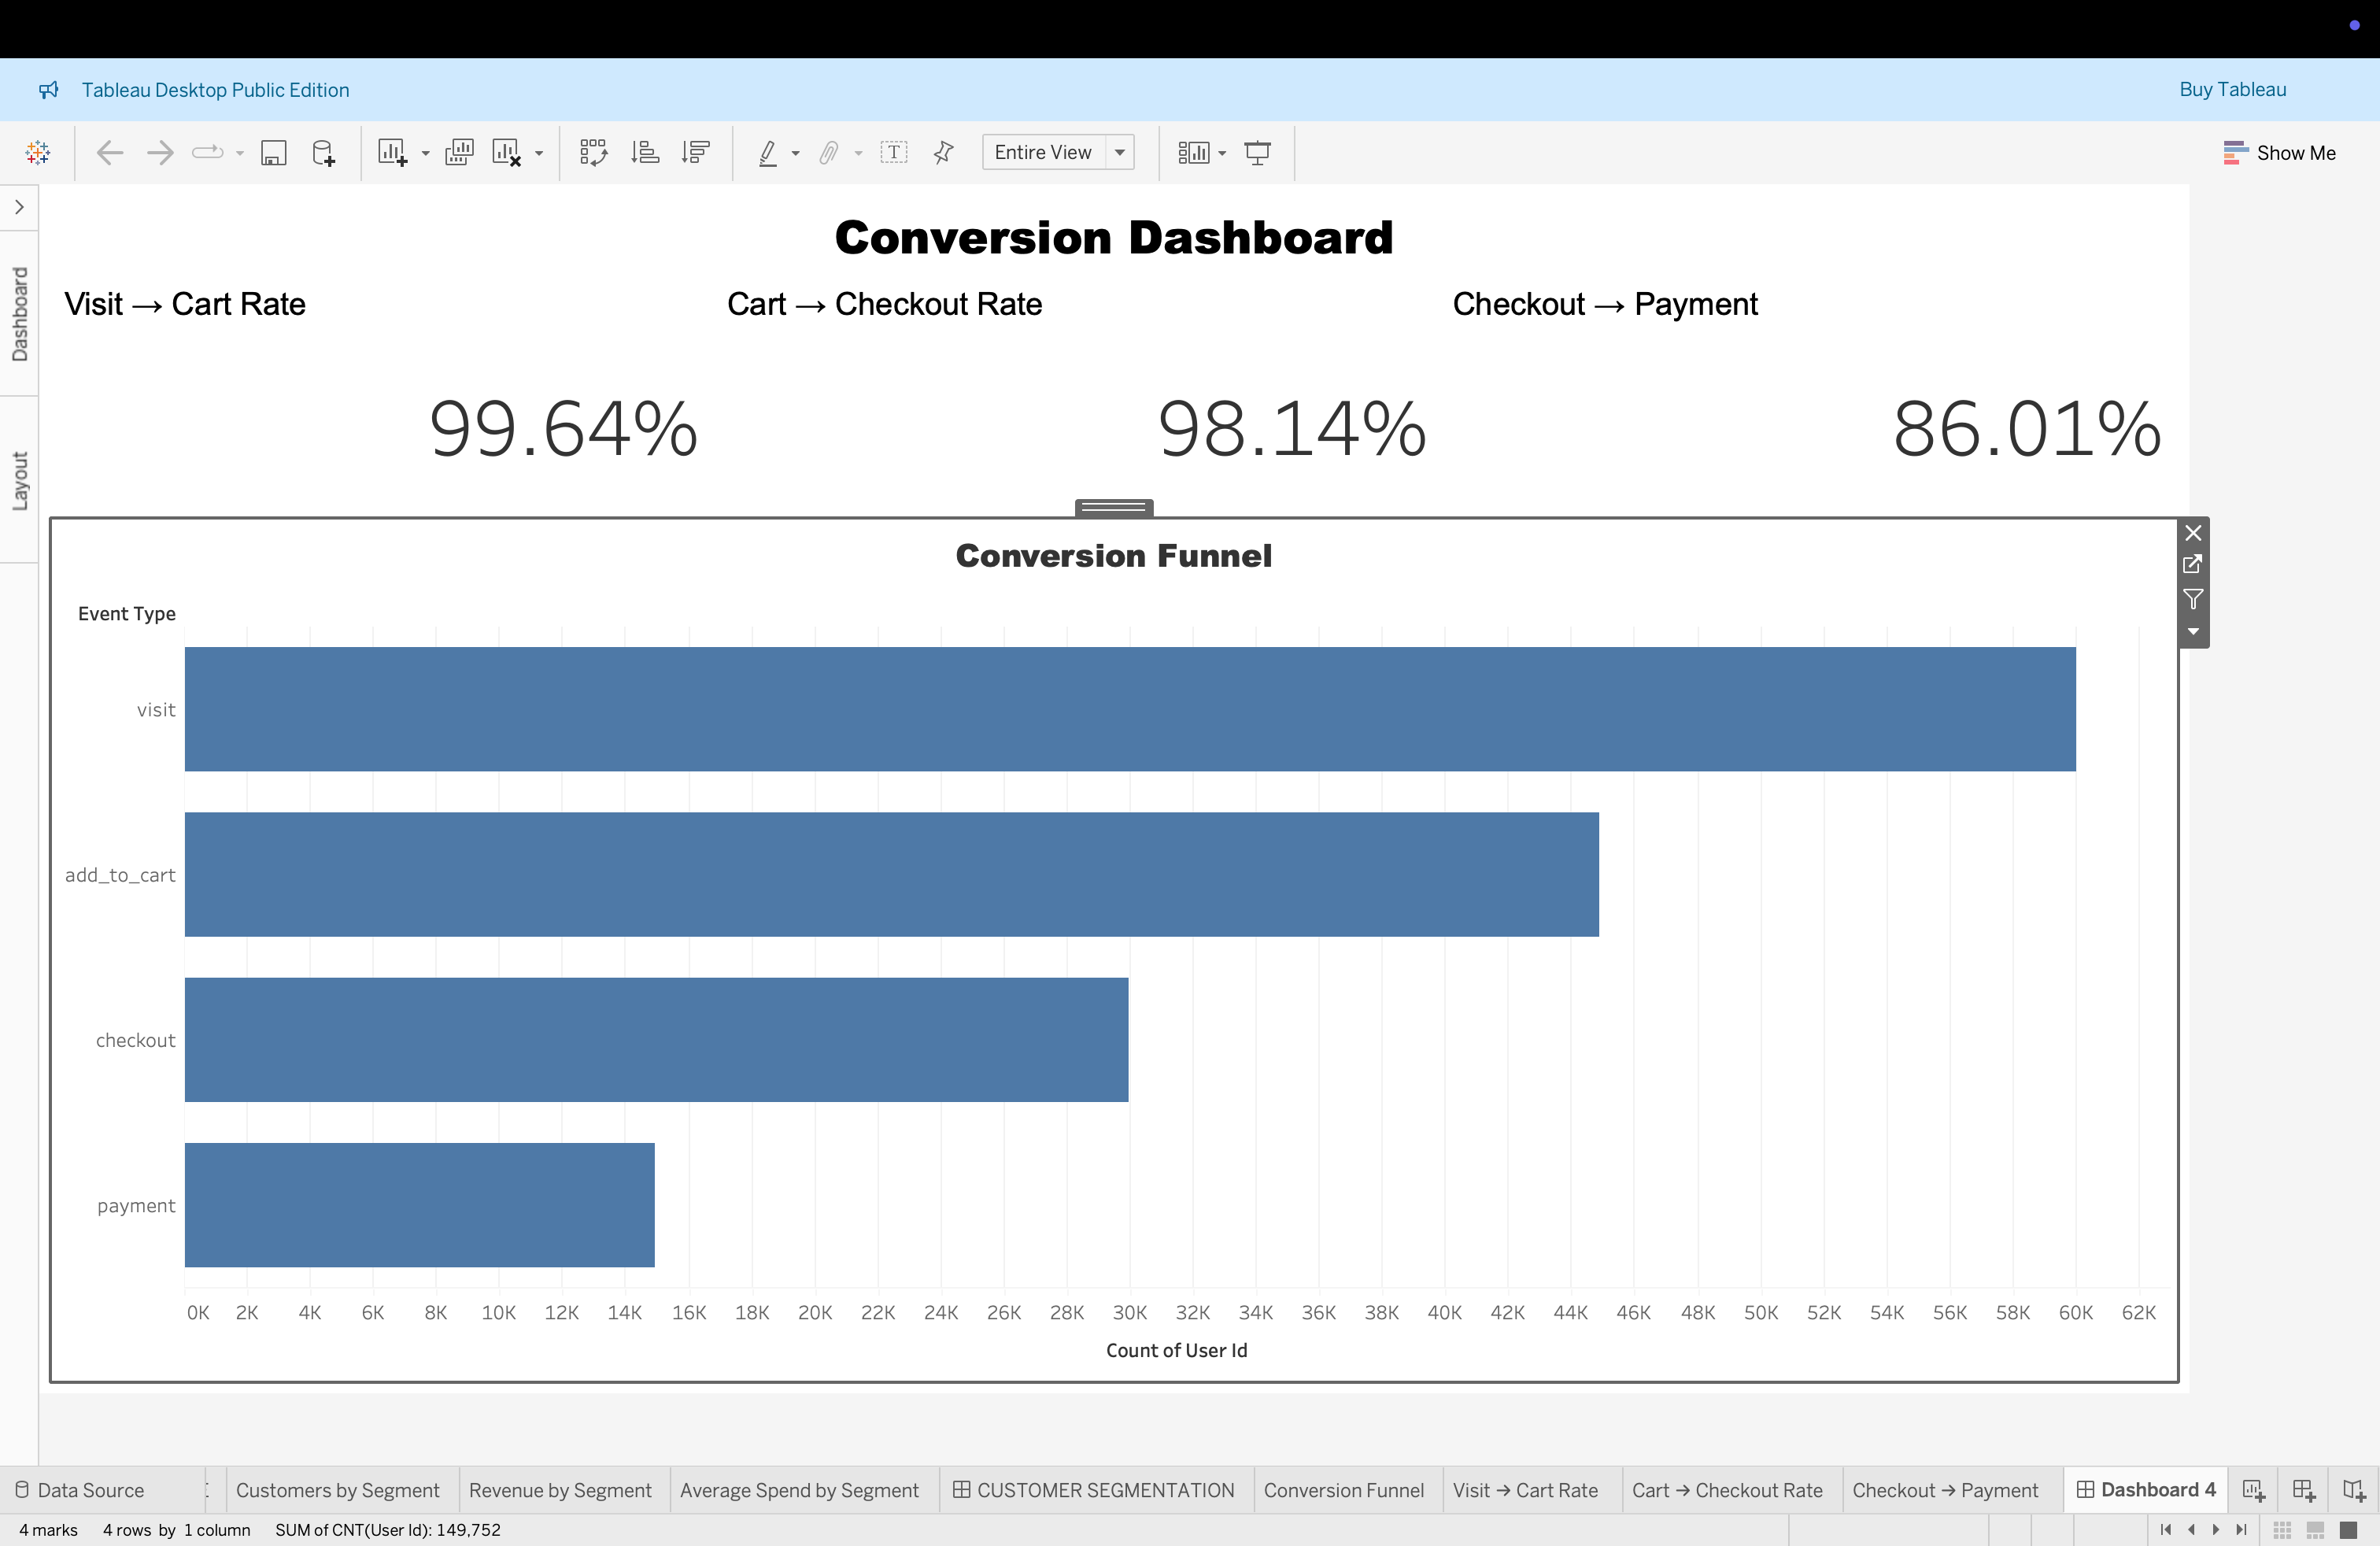

The page's visual inventory and layout, read from the dashboard file:
{"tool":"tableau","page":{"name":"Dashboard 4","canvas":[1366,768],"ordinal":2},"visuals":[{"type":"title","box":[8,8,1350,49]},{"type":"worksheet","title":"Visit → Cart Rate ","mark":"Automatic","box":[8,57,420.5,155.9]},{"type":"worksheet","title":"Cart → Checkout Rate","mark":"Automatic","box":[428.5,57,461.5,155.9]},{"type":"worksheet","title":"Checkout → Payment ","mark":"Automatic","box":[890,57,468,155.9]},{"type":"worksheet","title":"Conversion Funnel","mark":"Automatic","rows":["event_type"],"cols":["user_id"],"box":[8,212.9,1350,547.1]}]}

Visuals, with their boxes on the page's 1366x768 design canvas (x1, y1, x2, y2). These are canvas units, not pixel positions in the 2380x1546 screenshot, which may show the page scaled, cropped or inside an application window:
title: bbox=(8, 8, 1358, 57)
"Visit → Cart Rate " worksheet: bbox=(8, 57, 428, 213)
"Cart → Checkout Rate" worksheet: bbox=(428, 57, 890, 213)
"Checkout → Payment " worksheet: bbox=(890, 57, 1358, 213)
"Conversion Funnel" worksheet: bbox=(8, 213, 1358, 760)
